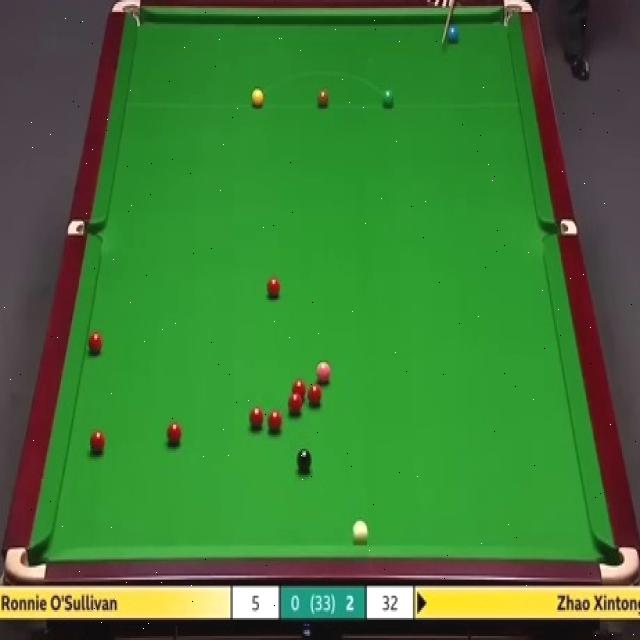black-ball: (296, 448, 313, 474)
blue-ball: (446, 20, 461, 45)
brown-ball: (317, 89, 330, 110)
green-ball: (381, 89, 395, 110)
pink-ball: (313, 361, 331, 385)
red-ball: (89, 429, 106, 457), (249, 404, 265, 431), (306, 383, 324, 406), (165, 422, 182, 446), (266, 275, 282, 300), (287, 393, 303, 417), (87, 331, 102, 356), (268, 408, 283, 432), (290, 379, 307, 400)
white-ball: (352, 520, 369, 544)
yellow-ball: (251, 88, 265, 109)
